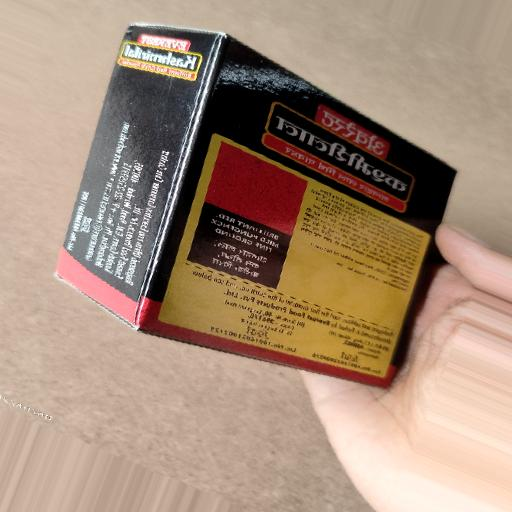Everest Kashmirilal: (28, 3, 491, 443)
